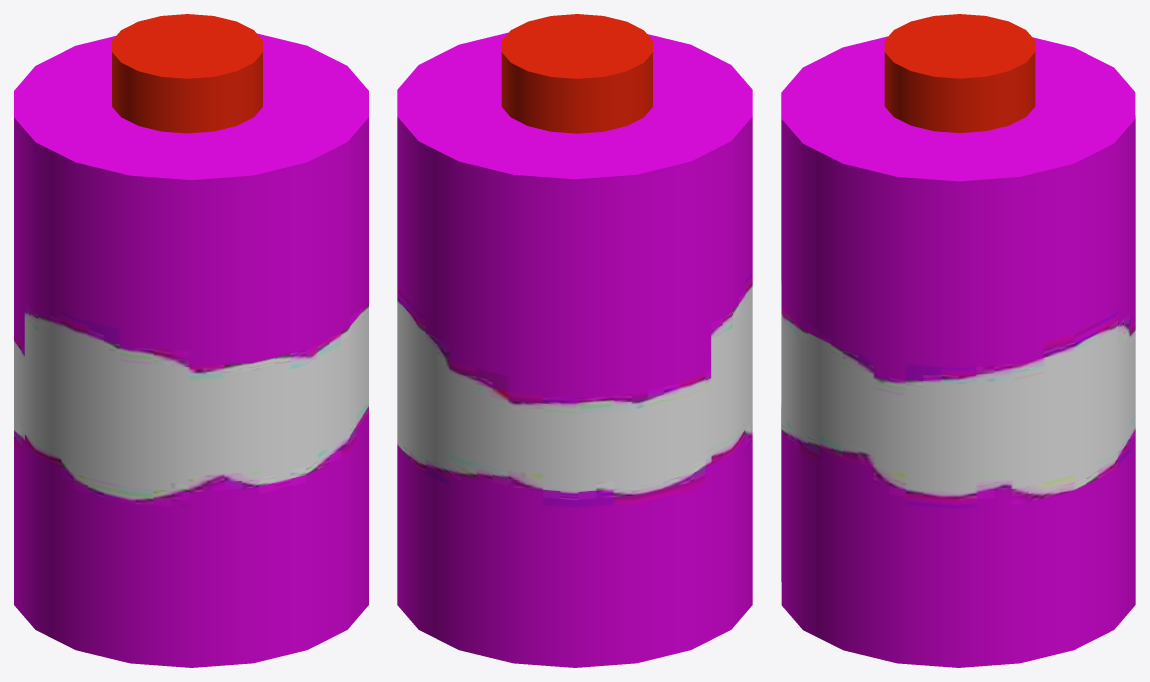
File: Pinkgas.FBX
3 views of the same model, side by side, from view 1: azimuth 30°, elevation 25°; view 2: azimuth 150°, elevation 25°; view 3: azimuth 270°, elevation 25° (orthographic).
Parts seen in each view (by area): view 1: Cylinder138, Cylinder139; view 2: Cylinder138, Cylinder139; view 3: Cylinder138, Cylinder139.
Part boxes in pixels (x1,y1,x2,y2): Cylinder138: (14,33,368,667); Cylinder139: (112,14,262,133); Cylinder138: (397,32,752,667); Cylinder139: (501,14,652,133); Cylinder138: (781,36,1135,667); Cylinder139: (884,14,1035,132).
Bounding box in the file's own units: 8.28 × 8.16 × 13.83.
Materials: 2 (2 with a texture image).
